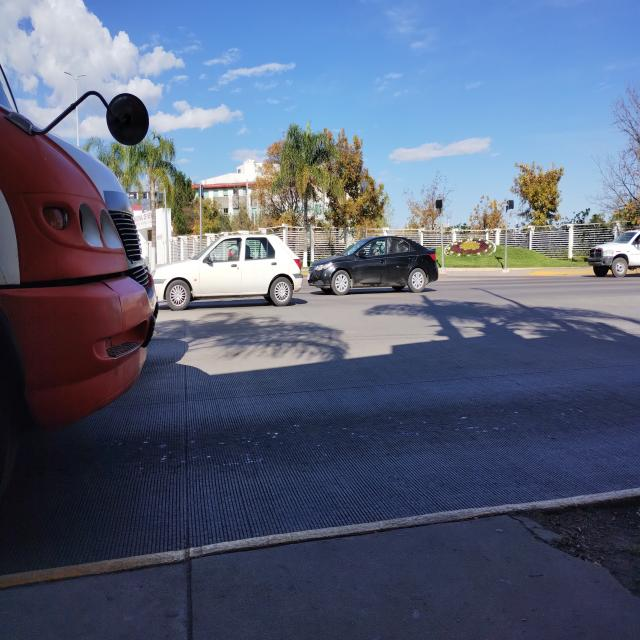Auto: (147, 232, 306, 308), (307, 233, 441, 296), (588, 225, 640, 276)
Autobus: (0, 77, 163, 442)
